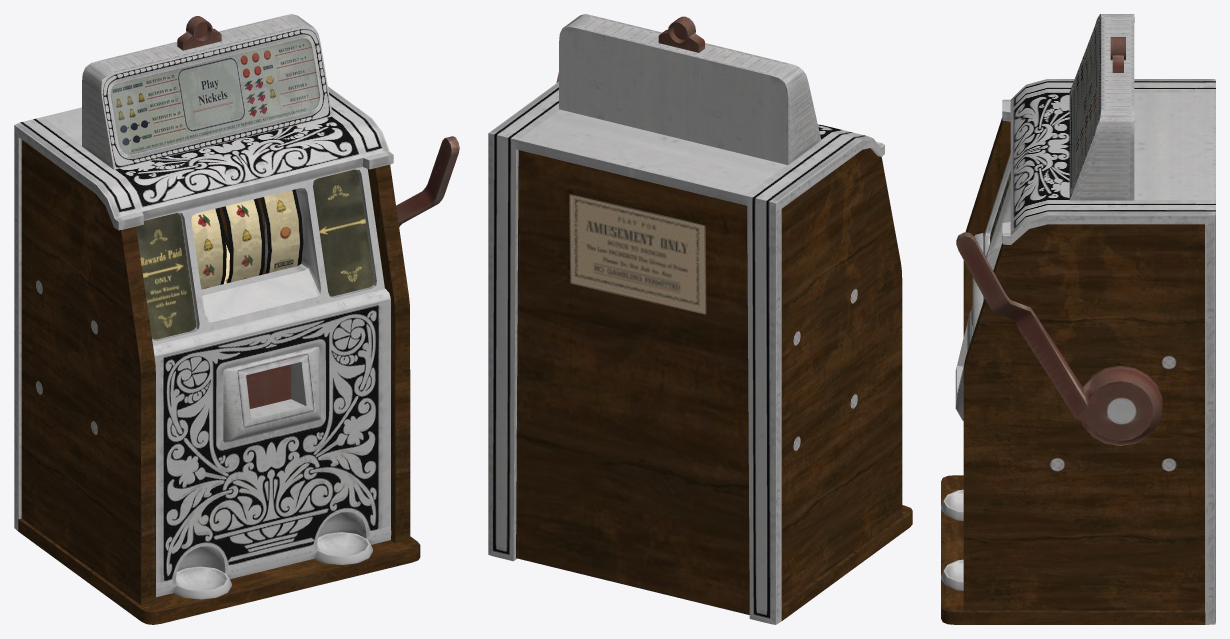
The model's file is slot_vintage.glb.
The picture shows the model from 3 angles, left to right: view 1: azimuth 30°, elevation 25°; view 2: azimuth 150°, elevation 25°; view 3: azimuth 270°, elevation 25°; orthographic projection. The views are drawn at different scales.
Parts seen in each view (by area): view 1: Plane010; view 2: Plane010; view 3: Plane010.
Boxes of the visible parts, box(x1,y1,x2,y2) form: Plane010: box(14, 14, 459, 624); Plane010: box(488, 14, 912, 624); Plane010: box(941, 14, 1215, 624).
Bounding box in the file's own units: 506 × 775 × 372.
Materials: 1 (1 with a texture image).
